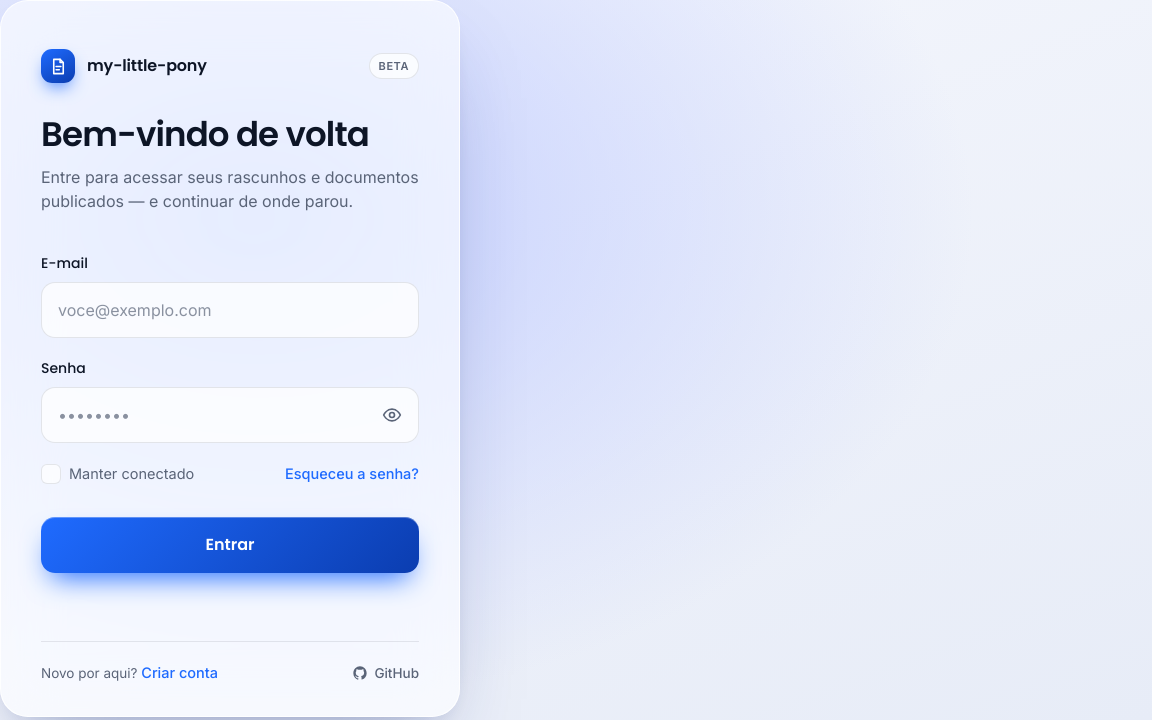
Scenario: LoginForm › faz login com sucesso e confirma
Type "a@b.com" into the field labelled "E-mail" at (230, 310), box [41,282,419,338]
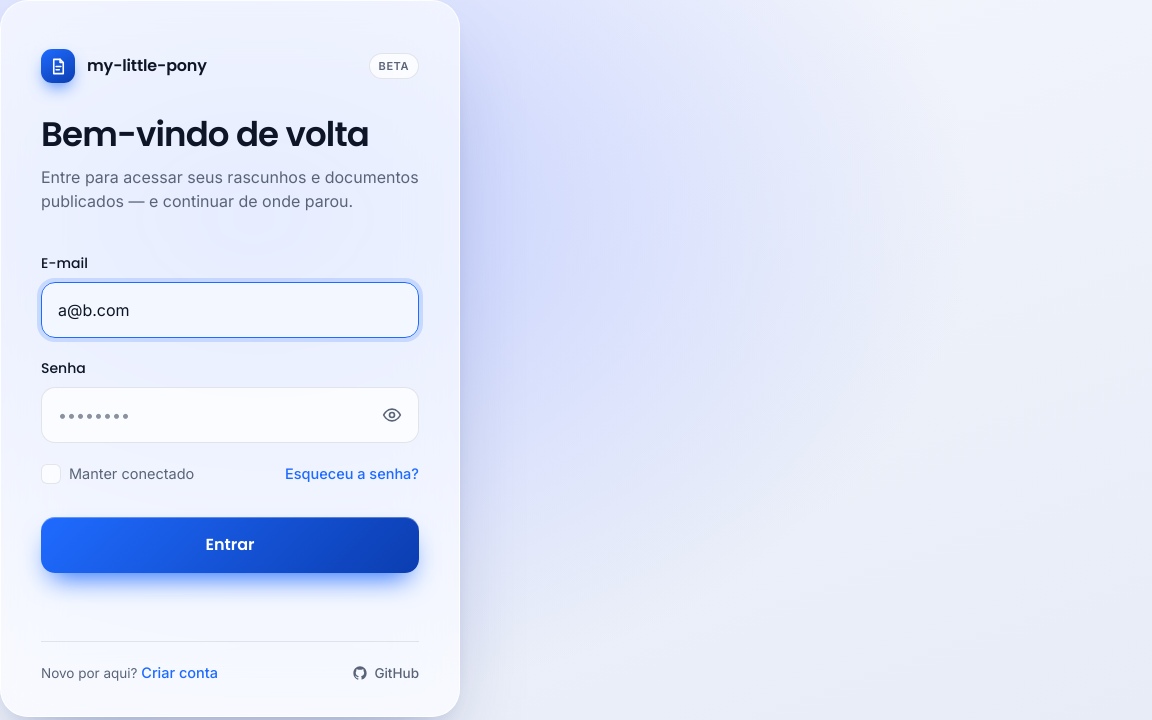
Type "123456" into the password field labelled "Senha" at (230, 415), box [41,387,419,443]
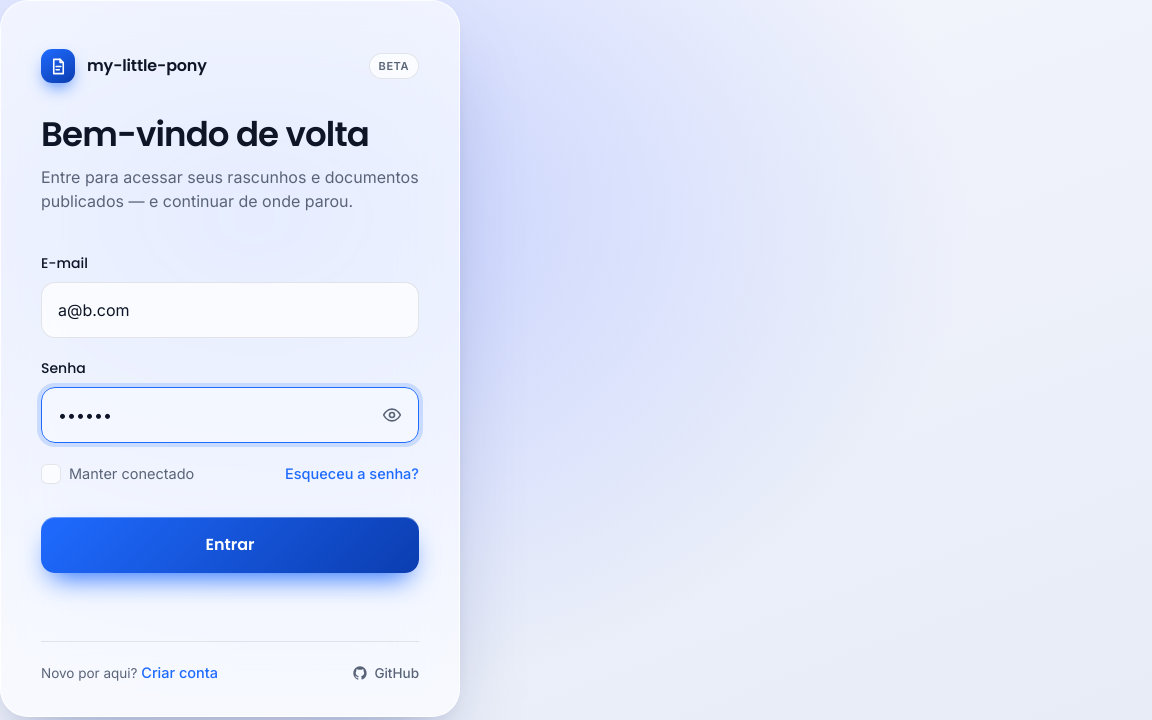
Click the button "Entrar" at (230, 545), box [41,517,419,573]
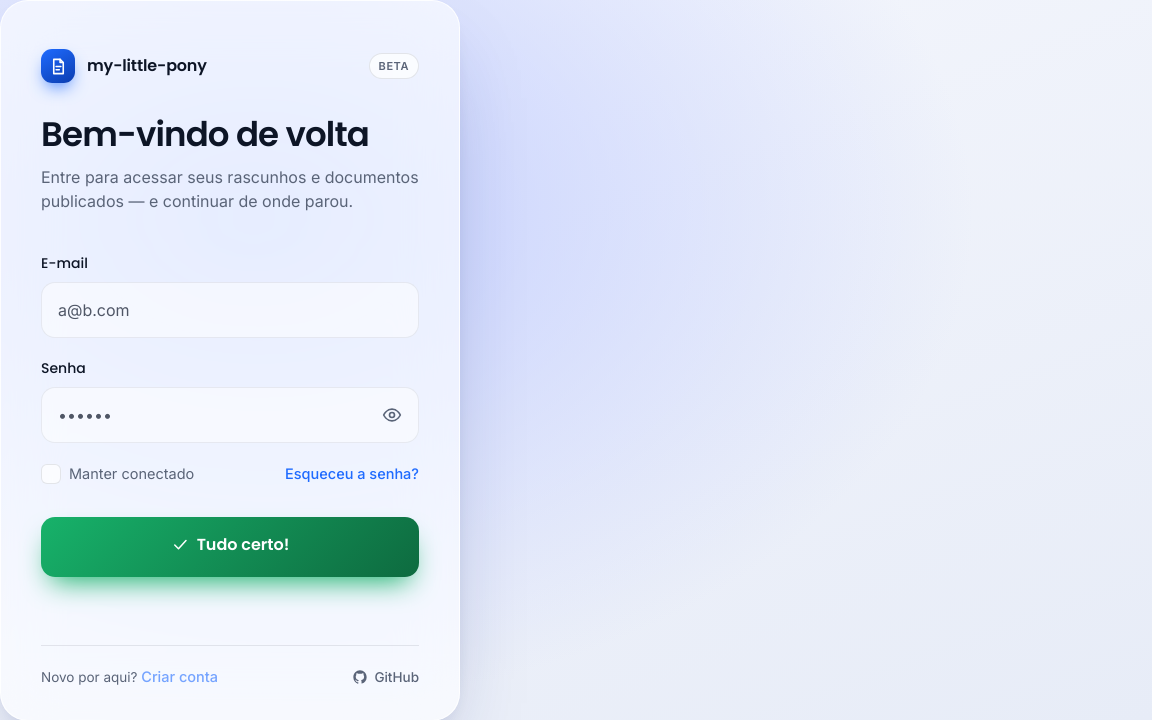
Result: the text "Tudo certo!" is shown at [171,533,289,557]
